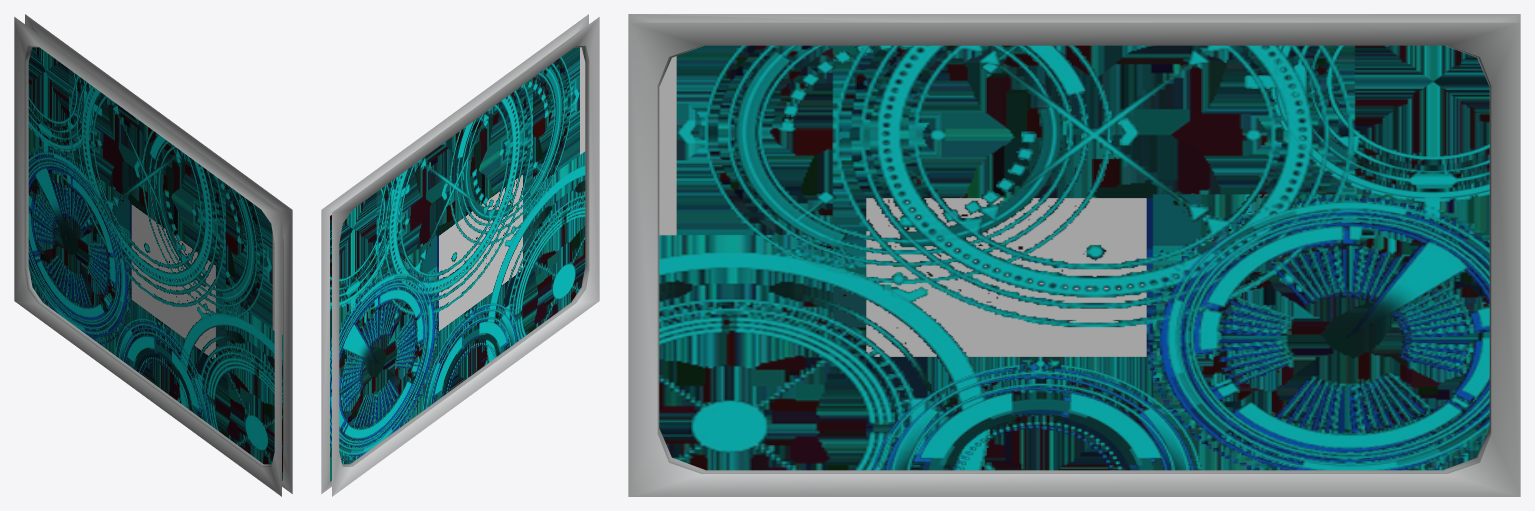
Rendered from M_cantingchuang01.FBX.
3 renders of one model, left to right at view 1: azimuth 30°, elevation 25°; view 2: azimuth 150°, elevation 25°; view 3: azimuth 270°, elevation 25°, orthographic. The views are drawn at different scales.
Parts seen in each view (by area): view 1: M_cantingchuang01_02, M_cantingchuang01_01; view 2: M_cantingchuang01_02, M_cantingchuang01_01; view 3: M_cantingchuang01_02, M_cantingchuang01_01.
Boxes of the visible parts, bbox=[...] form: M_cantingchuang01_02: bbox=[28, 47, 282, 480]; M_cantingchuang01_01: bbox=[14, 14, 292, 496]; M_cantingchuang01_02: bbox=[330, 47, 585, 481]; M_cantingchuang01_01: bbox=[321, 14, 599, 496]; M_cantingchuang01_02: bbox=[659, 45, 1489, 470]; M_cantingchuang01_01: bbox=[628, 14, 1520, 496].
Bounding box in the file's own units: 0.1031 × 2.61 × 4.45.
